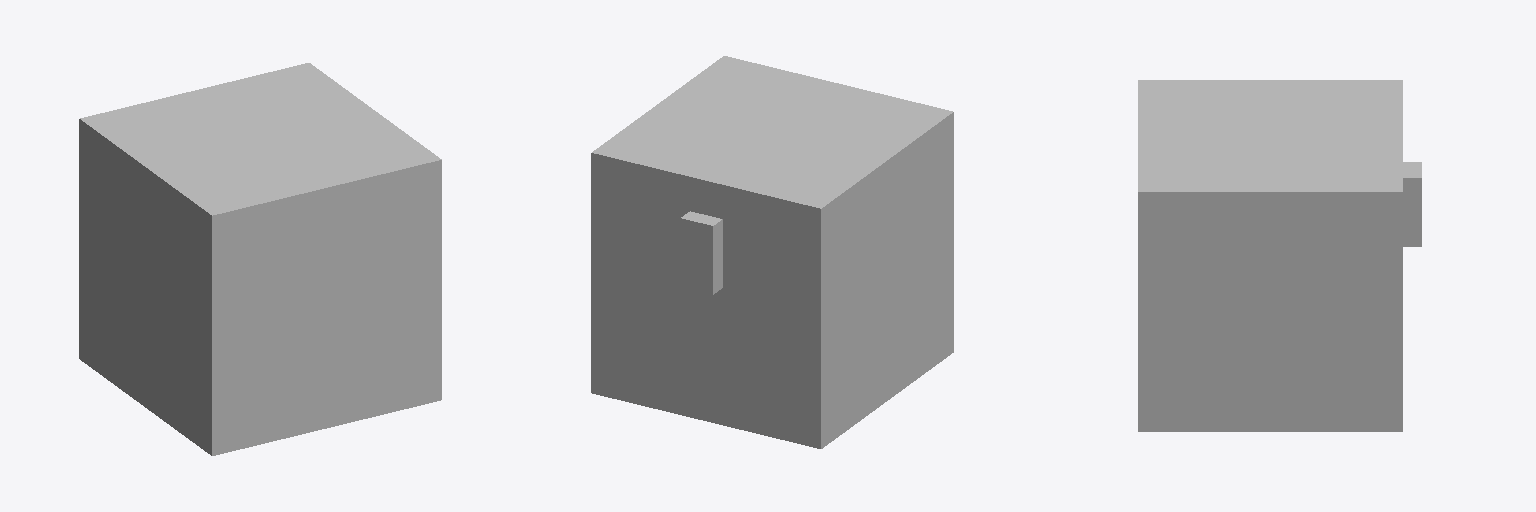
The model's file is chest.obj.
3 views of the same model, side by side, from view 1: azimuth 30°, elevation 25°; view 2: azimuth 150°, elevation 25°; view 3: azimuth 270°, elevation 25° (orthographic).
Parts seen in each view (by area): view 1: cube.001, cube; view 2: cube.001, cube, cube.002; view 3: cube.001, cube, cube.002.
Part boxes in pixels (x1,y1,x2,y2): cube.001: (79,63,441,301); cube: (79,205,441,455); cube.001: (591,56,953,294); cube: (591,198,953,448); cube.002: (680,211,722,294); cube.001: (1138,80,1402,277); cube: (1138,278,1402,431); cube.002: (1403,162,1421,246).
Size of the model in its own units: 0.875 by 0.875 by 0.9375.